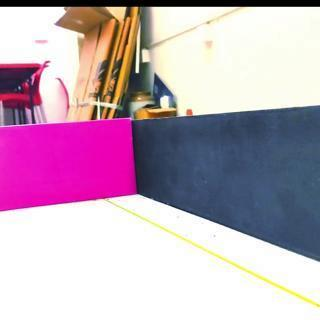xparking: (0, 122, 133, 203)
